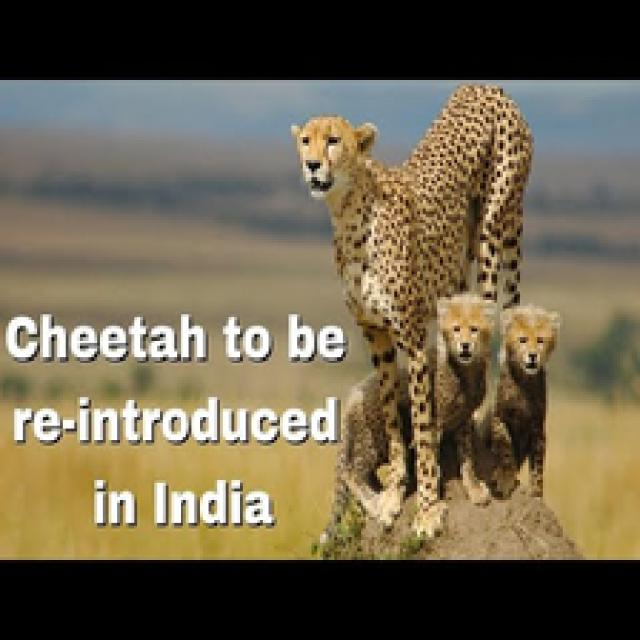cheetah: (278, 109, 594, 515), (346, 299, 499, 523), (492, 293, 570, 516)
